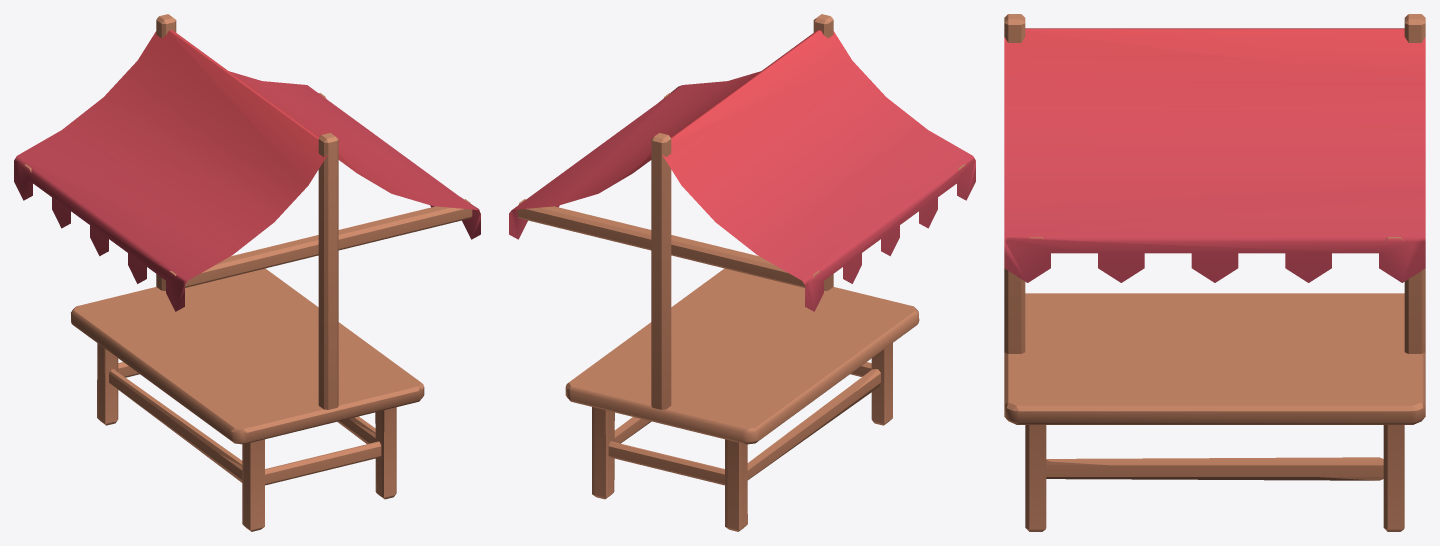
The model's file is kenney-fantasy-town__stall-red.glb.
3 views of the same model, side by side, from view 1: azimuth 30°, elevation 25°; view 2: azimuth 150°, elevation 25°; view 3: azimuth 270°, elevation 25° (orthographic). The views are drawn at different scales.
Visible parts, largest first — view 1: stall-red; view 2: stall-red; view 3: stall-red.
Part boxes in pixels (x1,y1,x2,y2): stall-red: [14, 14, 480, 531]; stall-red: [509, 14, 975, 531]; stall-red: [1004, 14, 1425, 531].
Bounding box in the file's own units: 1 × 1.24 × 1.
Materials: 1 (1 with a texture image).
